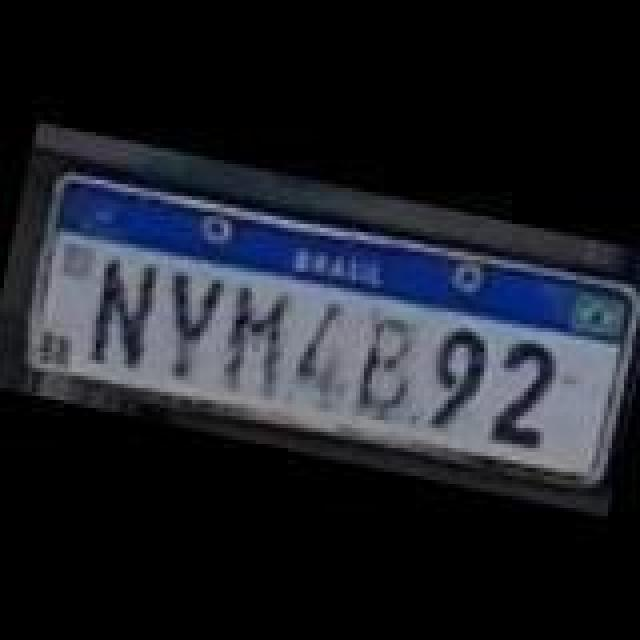2: (480, 332, 560, 452)
4: (286, 300, 354, 412)
9: (416, 320, 496, 440)
B: (344, 310, 424, 426)
M: (210, 280, 302, 408)
N: (82, 254, 158, 370)
Y: (152, 264, 232, 384)
